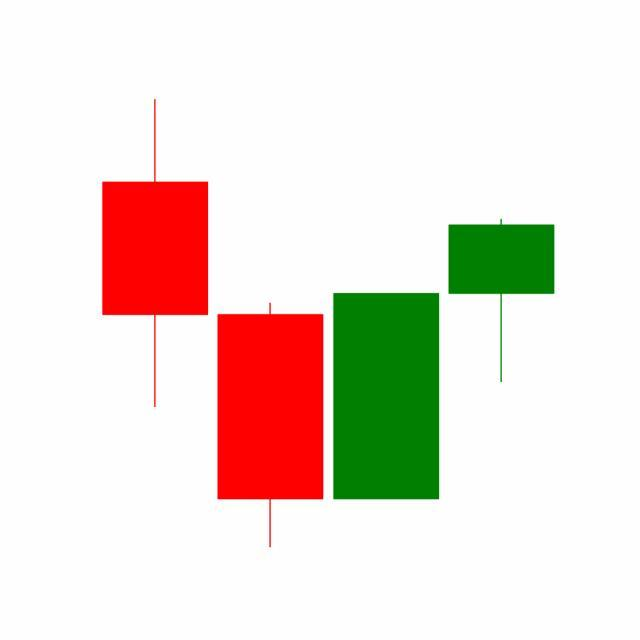Hanging Man: (444, 218, 560, 385)
